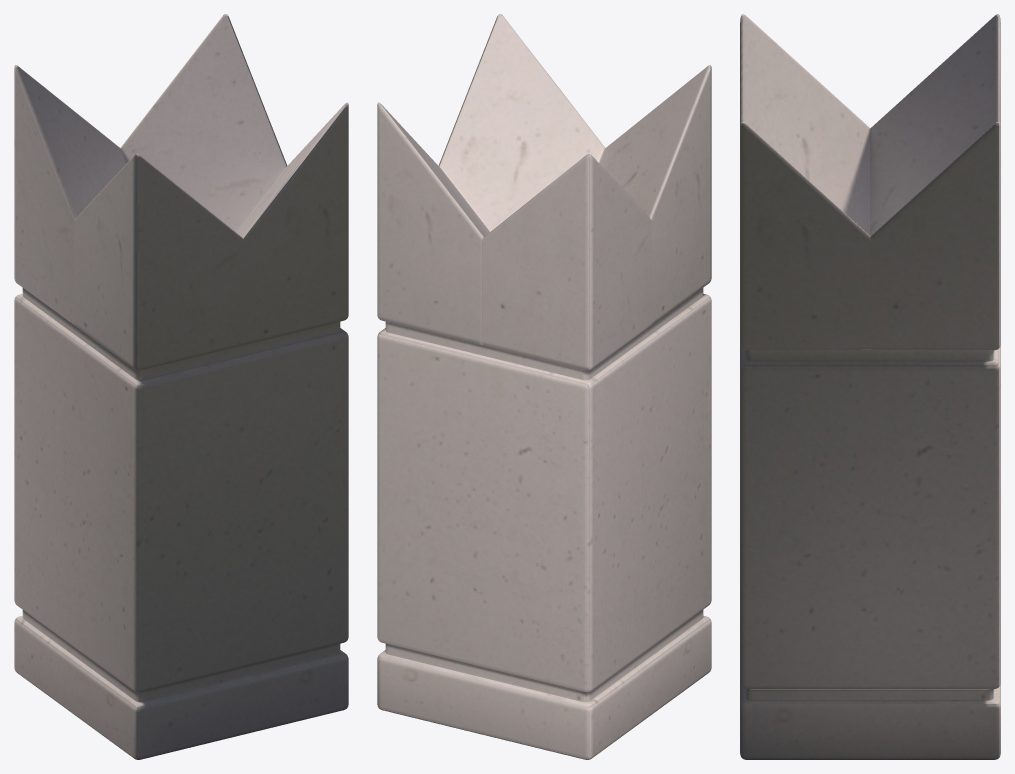
Rendered from w-king.glb.
3 renders of one model, left to right at view 1: azimuth 30°, elevation 25°; view 2: azimuth 150°, elevation 25°; view 3: azimuth 270°, elevation 25°, orthographic. The views are drawn at different scales.
Visible parts, largest first — view 1: w-king; view 2: w-king; view 3: w-king.
Boxes of the visible parts, x1,y1,x2,y2 form: w-king: (14,14,348,759); w-king: (377,14,711,759); w-king: (740,14,1000,759).
Bounding box in the file's own units: 0.508 × 1.37 × 0.508.
Materials: 1 (1 with a texture image).
